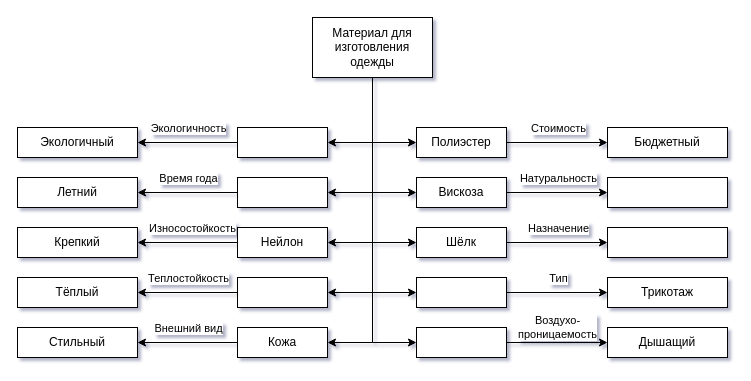
Some shapes in this 751 by 381 pixel diagram are drawn without their labels. Here are the shapes that lost their labels. From the top down, the centre of each, then its label:
the point at 282,142: Хлопок
the point at 282,192: Лён
the point at 667,192: Синтетический
the point at 667,242: Официальный
the point at 282,292: Шерсть
the point at 461,292: Флис
the point at 461,342: Микрофибра
